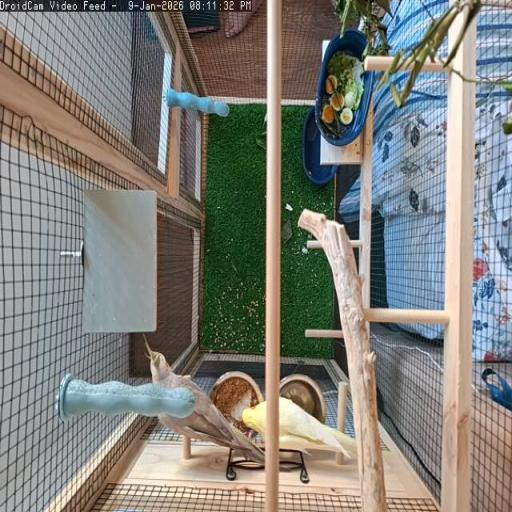bebedero: (280, 373, 325, 421)
comedero: (210, 371, 262, 435)
ninfa: (145, 338, 265, 464), (277, 399, 356, 458), (242, 402, 273, 447)
